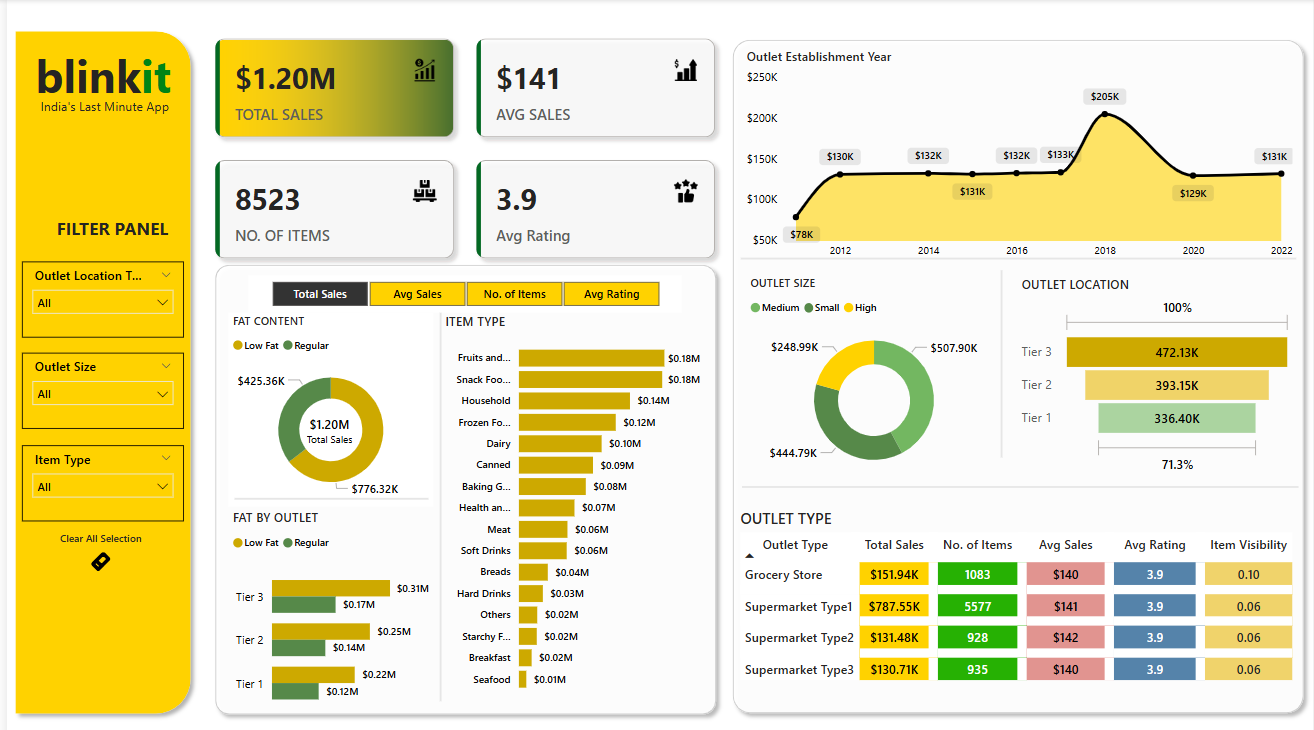

The dashboard page shown, as its layout file describes it:
{"tool":"powerbi","page":{"name":"Page 1","canvas":[1400,800],"ordinal":0},"visuals":[{"type":"shape","box":[0,26,206,750],"z":0},{"type":"textbox","box":[25.8,44.5,193.9,90],"z":1000},{"type":"textbox","box":[31,100.3,183.9,37.7],"z":2000},{"type":"cardVisual","fields":{"Data":["BlinkIT Grocery Data.Total Sales","BlinkIT Grocery Data.Avg Sales","BlinkIT Grocery Data.No. of Items","BlinkIT Grocery Data.Avg Rating"]},"box":[206,26,570,270],"z":3000},{"type":"shape","box":[215,276.7,555,500],"z":4000},{"type":"donutChart","title":"FAT CONTENT","fields":{"Y":["BlinkIT Grocery Data.Total Sales"],"Category":["BlinkIT Grocery Data.Item Fat Content"]},"box":[236.7,336.7,220,208.3],"z":5000},{"type":"slicer","fields":{"Values":["Metrics.Metrics"]},"box":[258.3,296.7,465,40],"z":6000},{"type":"cardVisual","fields":{"Data":["BlinkIT Grocery Data.Total Sales"]},"box":[303.3,430,86.7,63.3],"z":7000},{"type":"clusteredBarChart","title":"FAT BY OUTLET","fields":{"Y":["BlinkIT Grocery Data.Total Sales"],"Category":["BlinkIT Grocery Data.Outlet Location Type"],"Series":["BlinkIT Grocery Data.Item Fat Content"]},"box":[236.7,546.7,220,230],"z":8000},{"type":"shape","box":[243.3,526.7,208.3,18.3],"z":9000},{"type":"shape","box":[438.3,336.7,53.3,416.7],"z":10000},{"type":"barChart","title":"ITEM TYPE","fields":{"Y":["BlinkIT Grocery Data.Total Sales"],"Category":["BlinkIT Grocery Data.Item Type"]},"box":[465,336.7,283.3,416.7],"z":11000},{"type":"shape","box":[770,35,630,740],"z":12000},{"type":"lineChart","title":"Outlet Establishment Year","fields":{"Category":["BlinkIT Grocery Data.Outlet Establishment Year"],"Y":["BlinkIT Grocery Data.Total Sales"]},"box":[787.8,52.2,595.6,234.4],"z":13000},{"type":"shape","box":[788.3,520,596.7,6.7],"z":14000},{"type":"donutChart","title":"OUTLET SIZE","fields":{"Y":["BlinkIT Grocery Data.Total Sales"],"Category":["BlinkIT Grocery Data.Outlet Size"]},"box":[791.7,296.7,275,225],"z":15000},{"type":"shape","box":[1040,290.9,52.7,200.9],"z":16000},{"type":"funnel","title":"OUTLET LOCATION","fields":{"Y":["Sum(BlinkIT Grocery Data.Sales)"],"Category":["BlinkIT Grocery Data.Outlet Location Type"]},"box":[1083.3,296.7,300,218.3],"z":17000},{"type":"shape","box":[787.1,274.3,595.7,7.1],"z":18000},{"type":"pivotTable","title":"OUTLET TYPE","fields":{"Rows":["BlinkIT Grocery Data.Outlet Type"],"Values":["BlinkIT Grocery Data.Total Sales","BlinkIT Grocery Data.No. of Items","BlinkIT Grocery Data.Avg Sales","BlinkIT Grocery Data.Avg Rating","Avg(BlinkIT Grocery Data.Item Visibility)"]},"box":[781.7,545,603.3,220],"z":19000},{"type":"slicer","fields":{"Values":["BlinkIT Grocery Data.Outlet Location Type"]},"box":[16.7,281.7,173.3,81.7],"z":20000},{"type":"slicer","fields":{"Values":["BlinkIT Grocery Data.Outlet Size"]},"box":[16.7,380,173.3,81.7],"z":21000},{"type":"slicer","fields":{"Values":["BlinkIT Grocery Data.Item Type"]},"box":[16.7,478.3,173.3,81.7],"z":22000},{"type":"textbox","box":[48.3,228.3,158.3,50],"z":23000},{"type":"actionButton","title":"Clear All Selection","box":[48.2,570.9,104.5,46.4],"z":24000}]}

Visuals, with their boxes in screenshot pixels (x1, y1, x2, y2), scaled from the page's 1400x800 canvas onto the 1314x730 screenshot:
shape: BBox(0, 24, 193, 708)
textbox: BBox(24, 41, 206, 123)
textbox: BBox(29, 92, 202, 126)
cardVisual - BlinkIT Grocery Data.Total Sales x BlinkIT Grocery Data.Avg Sales: BBox(193, 24, 728, 270)
shape: BBox(202, 252, 723, 709)
"FAT CONTENT" donutChart: BBox(222, 307, 429, 497)
slicer - Metrics.Metrics: BBox(242, 271, 679, 307)
cardVisual - BlinkIT Grocery Data.Total Sales: BBox(285, 392, 366, 450)
"FAT BY OUTLET" clusteredBarChart: BBox(222, 499, 429, 709)
shape: BBox(228, 481, 424, 497)
shape: BBox(411, 307, 461, 687)
"ITEM TYPE" barChart: BBox(436, 307, 702, 687)
shape: BBox(723, 32, 1313, 707)
"Outlet Establishment Year" lineChart: BBox(739, 48, 1298, 262)
shape: BBox(740, 474, 1300, 481)
"OUTLET SIZE" donutChart: BBox(743, 271, 1001, 476)
shape: BBox(976, 265, 1026, 449)
"OUTLET LOCATION" funnel: BBox(1017, 271, 1298, 470)
shape: BBox(739, 250, 1298, 257)
"OUTLET TYPE" pivotTable: BBox(734, 497, 1300, 698)
slicer - BlinkIT Grocery Data.Outlet Location Type: BBox(16, 257, 178, 332)
slicer - BlinkIT Grocery Data.Outlet Size: BBox(16, 347, 178, 421)
slicer - BlinkIT Grocery Data.Item Type: BBox(16, 436, 178, 511)
textbox: BBox(45, 208, 194, 254)
"Clear All Selection" actionButton: BBox(45, 521, 143, 563)
